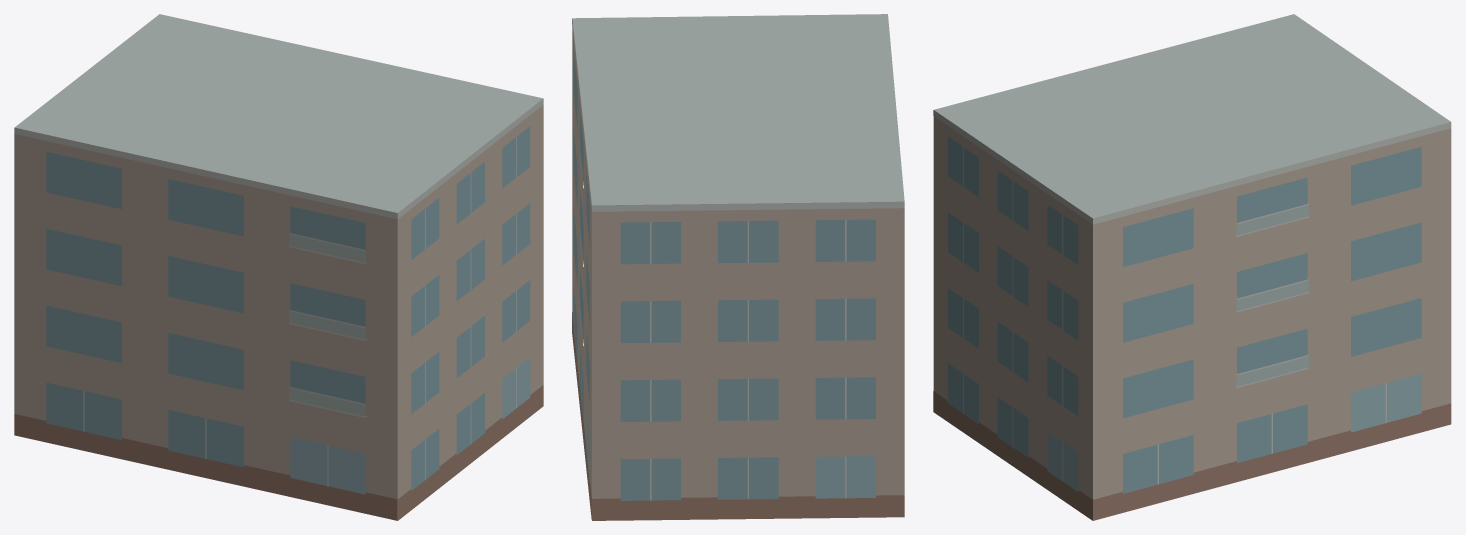
File: survey-upis-32868690.glb
3 renders of one model, left to right at view 1: azimuth 30°, elevation 25°; view 2: azimuth 150°, elevation 25°; view 3: azimuth 270°, elevation 25°, orthographic. The views are drawn at different scales.
Visible parts, largest first — view 1: survey-upis-32868690.tmp; view 2: survey-upis-32868690.tmp; view 3: survey-upis-32868690.tmp.
Boxes of the visible parts, x1=… form: survey-upis-32868690.tmp: x1=14, y1=14, x2=543, y2=520; survey-upis-32868690.tmp: x1=572, y1=14, x2=904, y2=520; survey-upis-32868690.tmp: x1=933, y1=14, x2=1451, y2=520.
Size of the model in its own units: 17.42 by 12 by 18.63.
